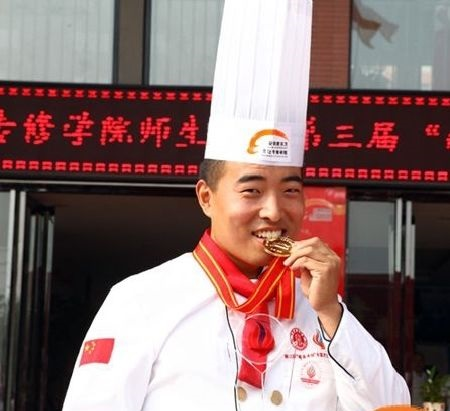face: (213, 153, 304, 266)
